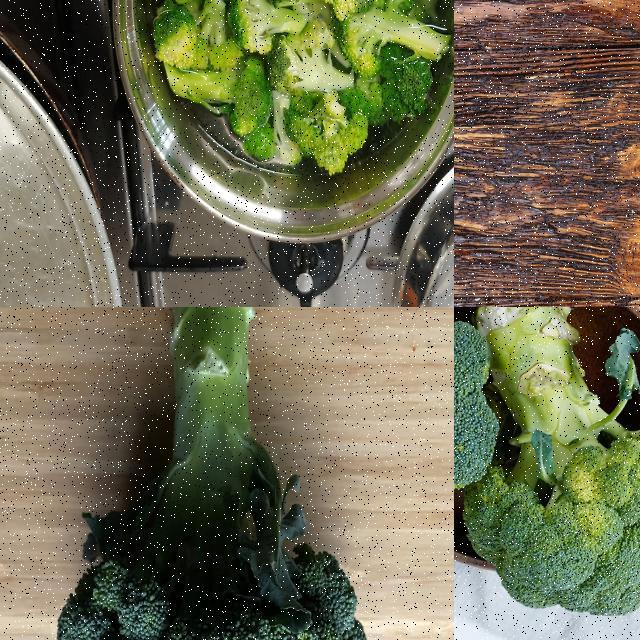broccoli: (48, 307, 374, 639), (472, 307, 639, 617), (154, 56, 279, 133), (328, 0, 449, 72), (454, 307, 496, 513), (235, 0, 307, 53)
